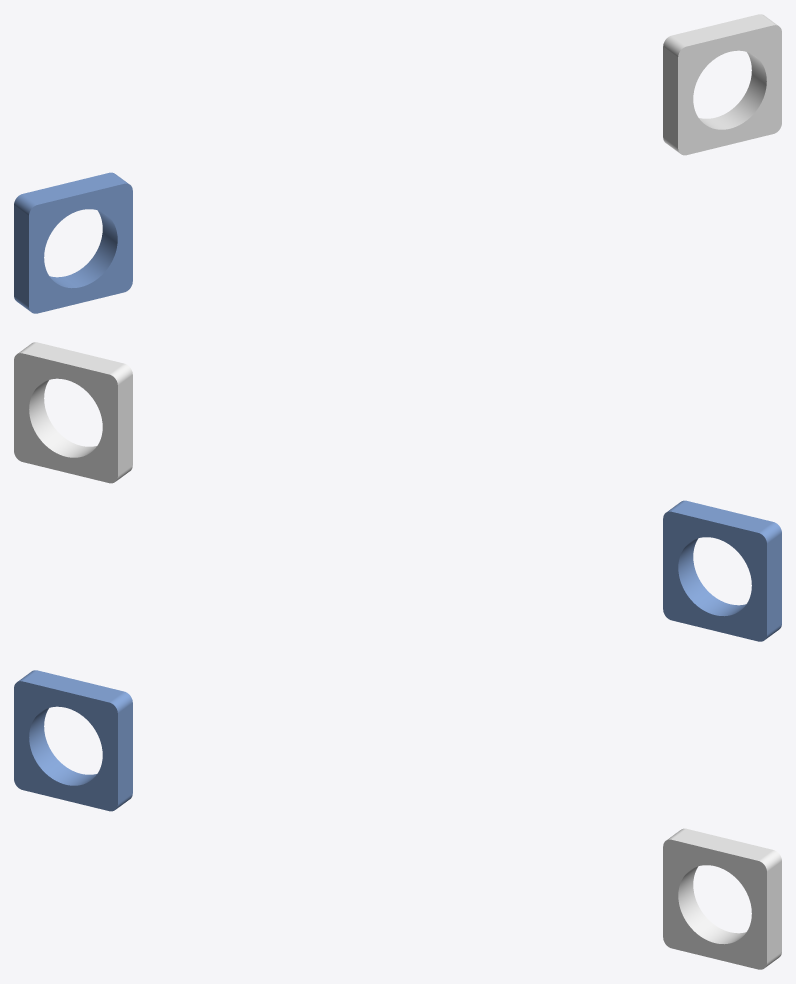
The picture shows the model from 3 angles, top to bottom: view 1: azimuth 30°, elevation 25°; view 2: azimuth 150°, elevation 25°; view 3: azimuth 330°, elevation 25°; orthographic projection.
Visible parts, largest first — view 1: mesh9712, mesh9701, mesh9700, mesh9711, mesh9709, mesh9720, mesh9718, mesh9707; view 2: mesh9713, mesh9702, mesh9700, mesh9711, mesh9709, mesh9720, mesh9718, mesh9707; view 3: mesh9701, mesh9712, mesh9711, mesh9700, mesh9716, mesh9705, mesh9707, mesh9718.
Boxes of the visible parts, x1,y1,x2,y2 form: mesh9712: (29,183,132,313); mesh9701: (678,25,781,155); mesh9700: (699,52,766,129); mesh9711: (49,210,117,288); mesh9709: (663,47,677,147); mesh9720: (14,205,28,306); mesh9718: (23,173,123,204); mesh9707: (672,14,772,46); mesh9713: (663,511,766,641); mesh9702: (14,353,117,483); mesh9700: (29,380,96,457); mesh9711: (678,538,746,616); mesh9709: (118,375,132,475); mesh9720: (767,533,781,634); mesh9718: (672,501,772,532); mesh9707: (23,342,123,374); mesh9701: (663,839,766,969); mesh9712: (14,681,117,811); mesh9711: (29,708,96,785); mesh9700: (678,866,746,944); mesh9716: (118,703,132,803); mesh9705: (767,861,781,962); mesh9707: (672,829,772,860); mesh9718: (23,670,123,702).
Size of the model in its own units: 0.087 by 0.012 by 0.003.
